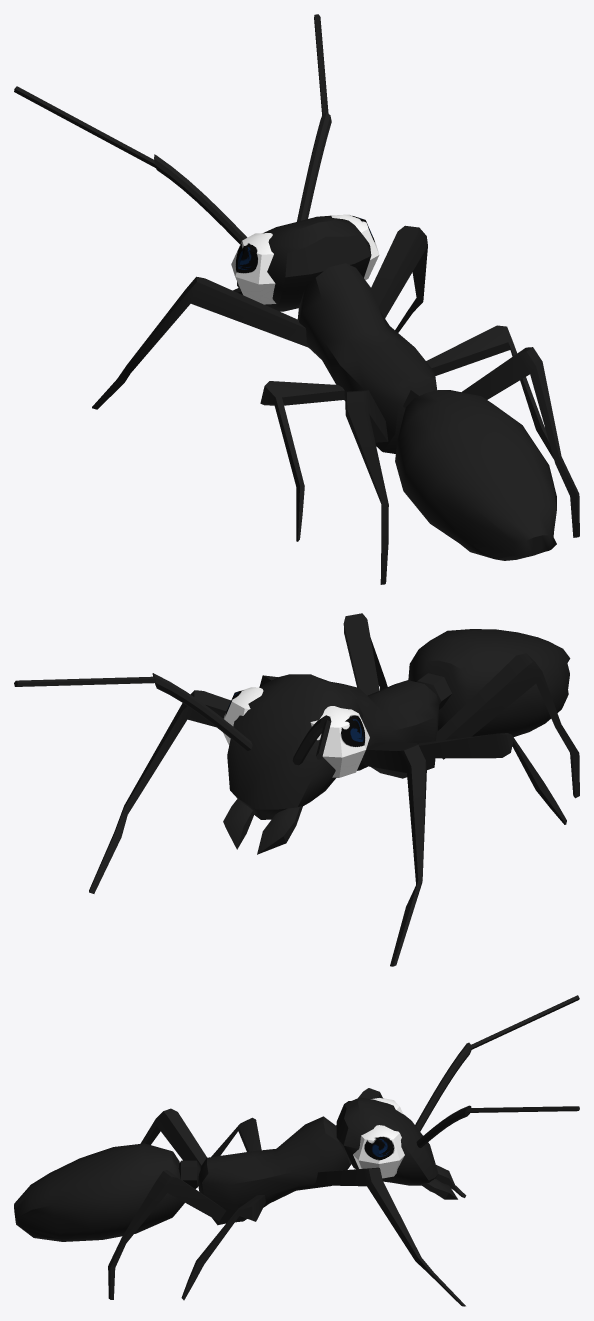
Rendered from newBlackAnt.fbx.
3 renders of one model, top to bottom at view 1: azimuth 30°, elevation 25°; view 2: azimuth 150°, elevation 25°; view 3: azimuth 270°, elevation 25°, orthographic. The views are drawn at different scales.
Visible parts, largest first — view 1: antBody, eye; view 2: antBody, eye, eye_2; view 3: antBody, eye_2.
Boxes of the visible parts, left/top/right/bottom form: antBody: left=14, top=14, right=579, bottom=584; eye: left=231, top=233, right=276, bottom=304; antBody: left=14, top=613, right=579, bottom=966; eye: left=310, top=706, right=369, bottom=777; eye_2: left=223, top=687, right=263, bottom=745; antBody: left=14, top=995, right=579, bottom=1306; eye_2: left=353, top=1125, right=404, bottom=1178.
Bounding box in the file's own units: 30.61 × 27.08 × 65.07.
3 materials, 2 textured.
